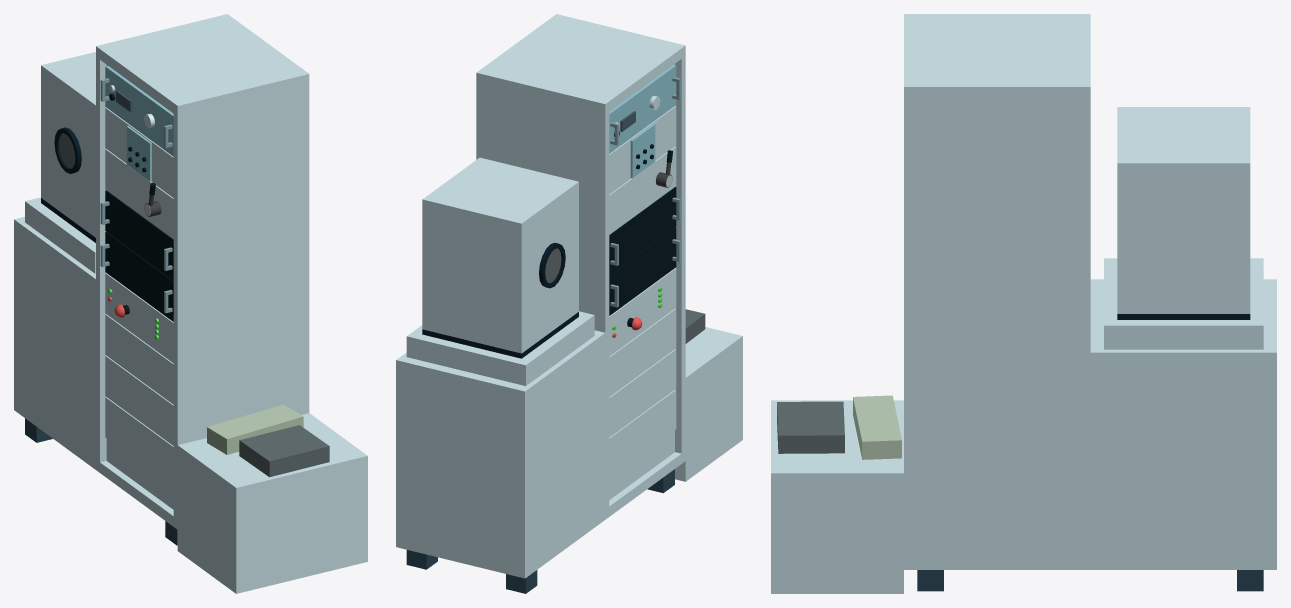
File: machine 3.glb
The picture shows the model from 3 angles, left to right: view 1: azimuth 30°, elevation 25°; view 2: azimuth 150°, elevation 25°; view 3: azimuth 270°, elevation 25°; orthographic projection. The views are drawn at different scales.
Parts seen in each view (by area): view 1: machine 3; view 2: machine 3; view 3: machine 3.
Part boxes in pixels (bbox=[...]): machine 3: bbox=[14, 14, 367, 593]; machine 3: bbox=[396, 14, 742, 593]; machine 3: bbox=[771, 14, 1276, 593].
Size of the model in its own units: 0.6925 by 2.1 by 1.9.
